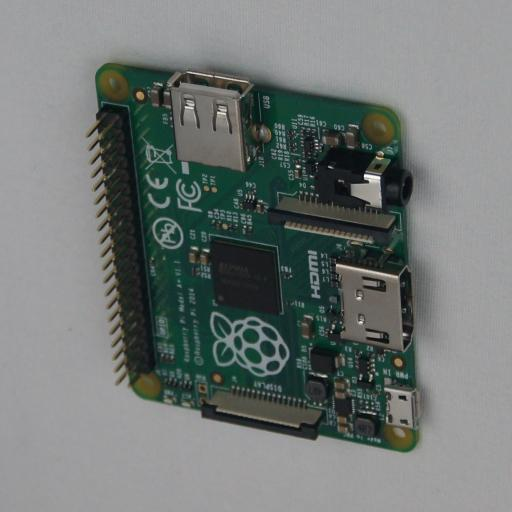Raspberry Pi A-: (87, 63, 424, 452)
